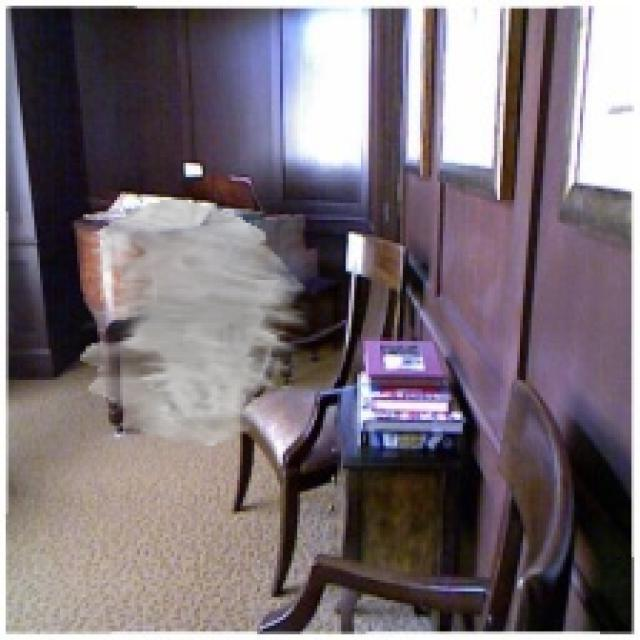smoke: (80, 200, 309, 446)
